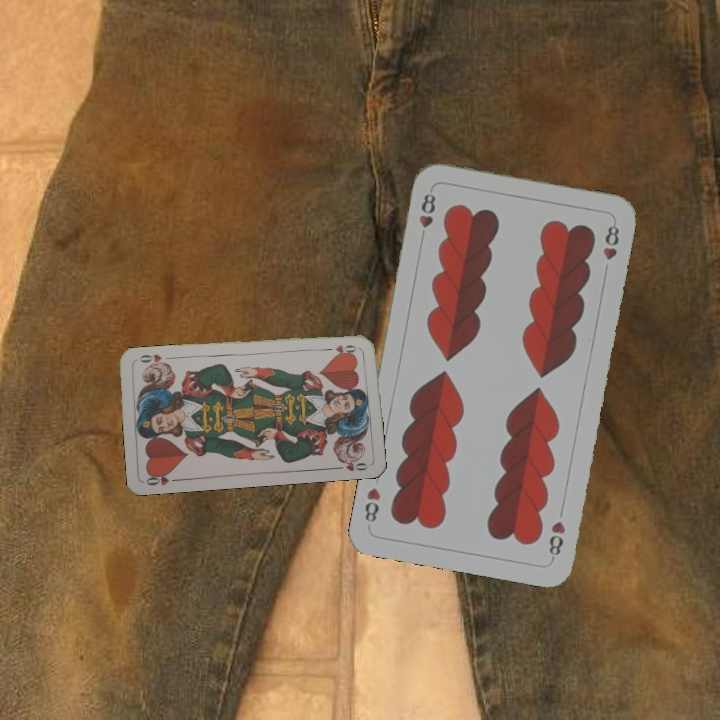H8: (415, 190, 438, 244), (545, 517, 568, 563)
HO: (142, 469, 182, 488), (320, 341, 361, 355)
